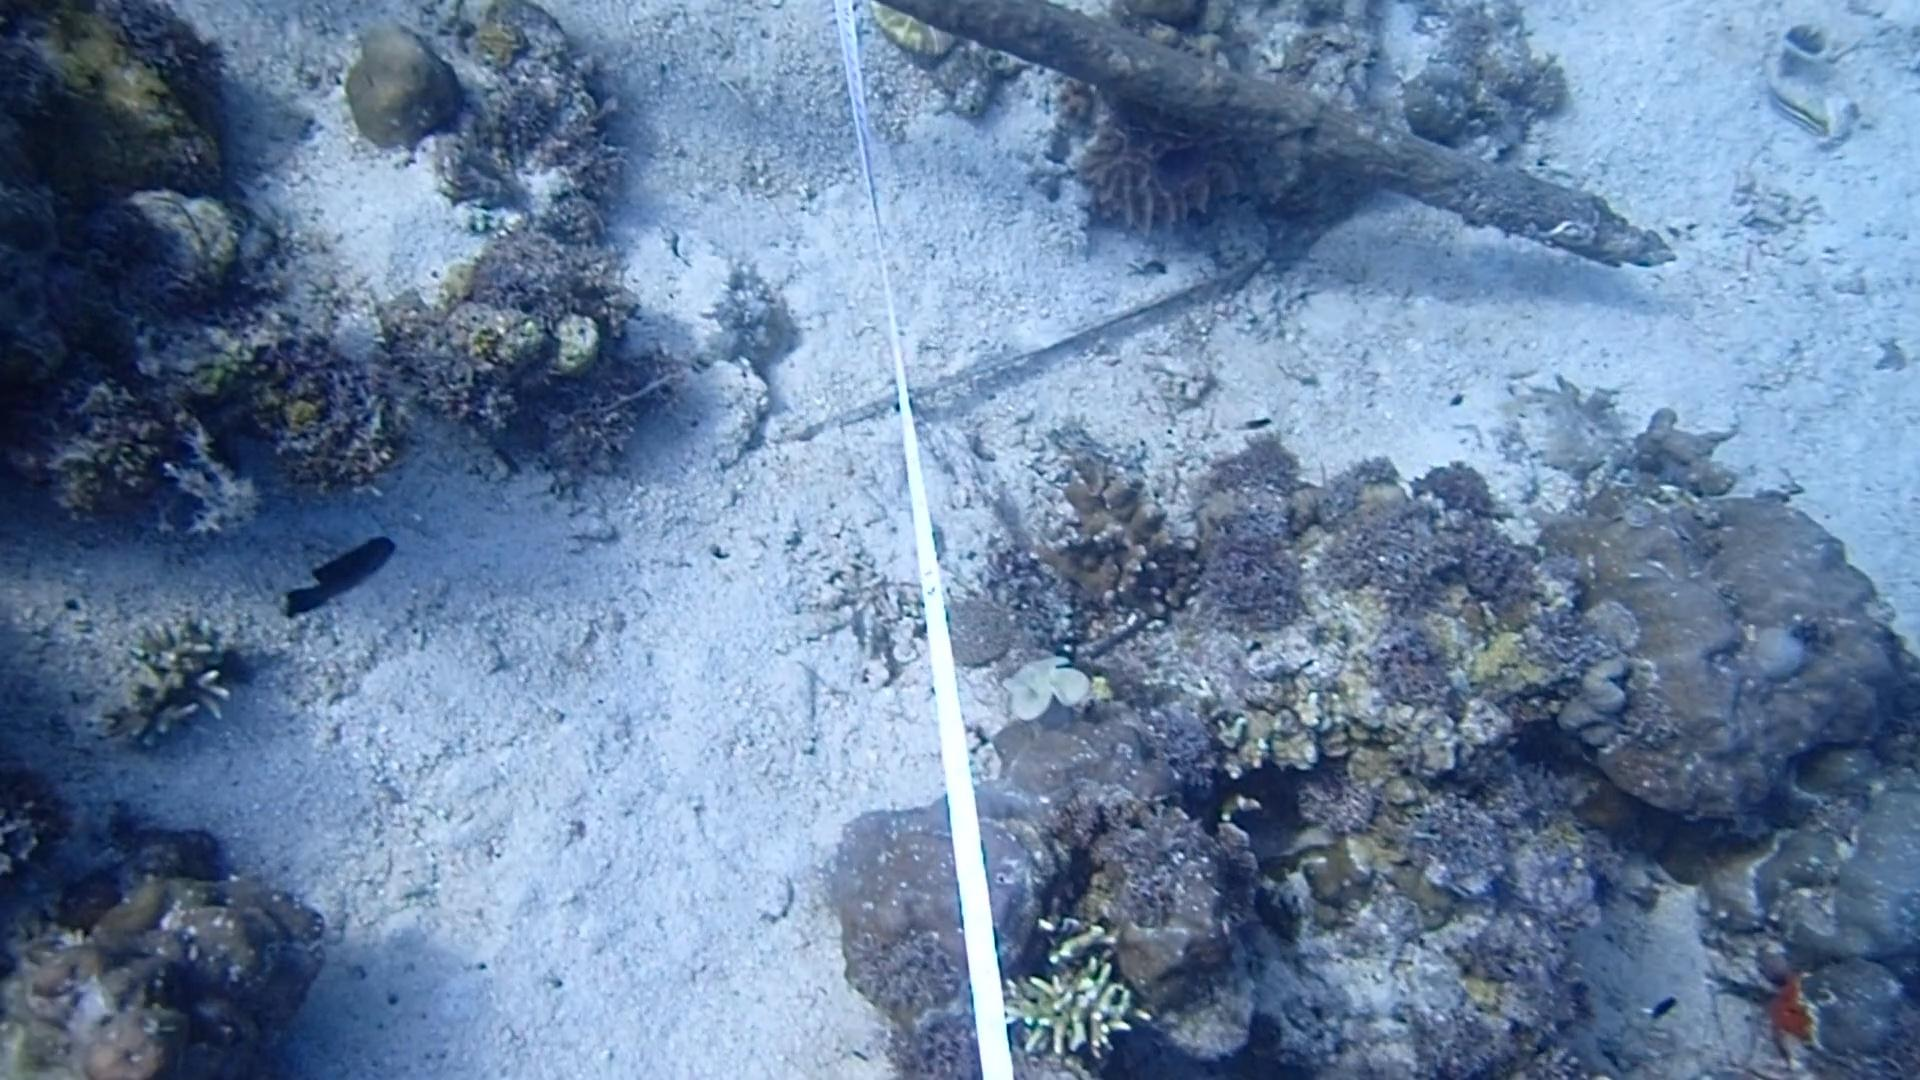Dark Fish: (269, 524, 410, 622)
Striped Fish: (1762, 78, 1850, 154)
